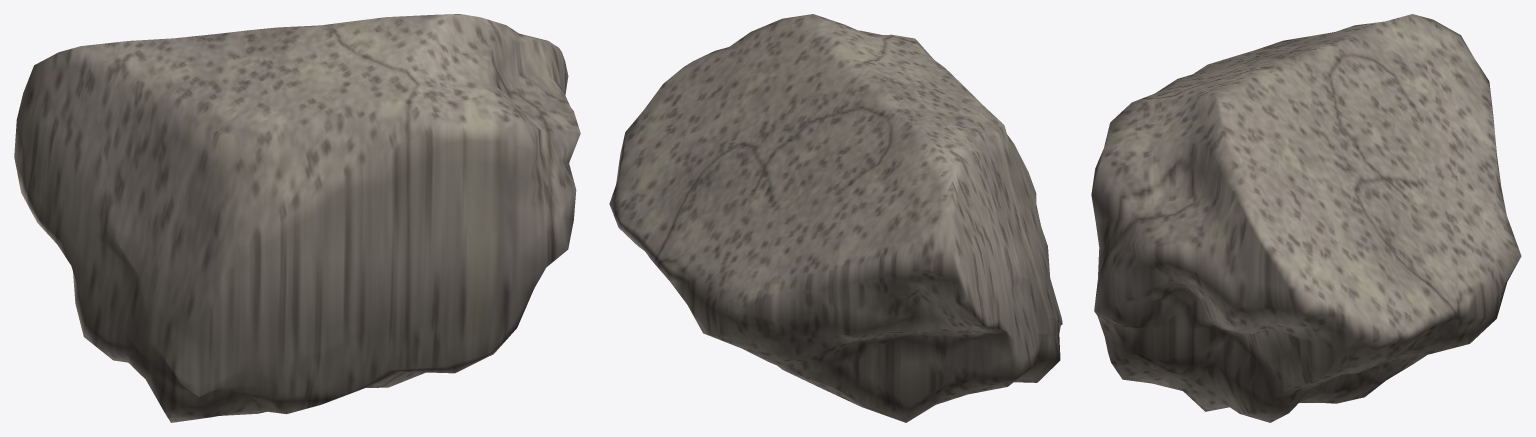
File: rock-granite-2.lite.glb
The picture shows the model from 3 angles, left to right: view 1: azimuth 30°, elevation 25°; view 2: azimuth 150°, elevation 25°; view 3: azimuth 270°, elevation 25°; orthographic projection. The views are drawn at different scales.
Parts seen in each view (by area): view 1: model; view 2: model; view 3: model.
Boxes of the visible parts, x1,y1,x2,y2 form: model: (14, 14, 580, 422); model: (609, 14, 1062, 422); model: (1091, 14, 1521, 422).
Size of the model in its own units: 1 by 0.7544 by 0.8345.
1 material, 1 textured.
